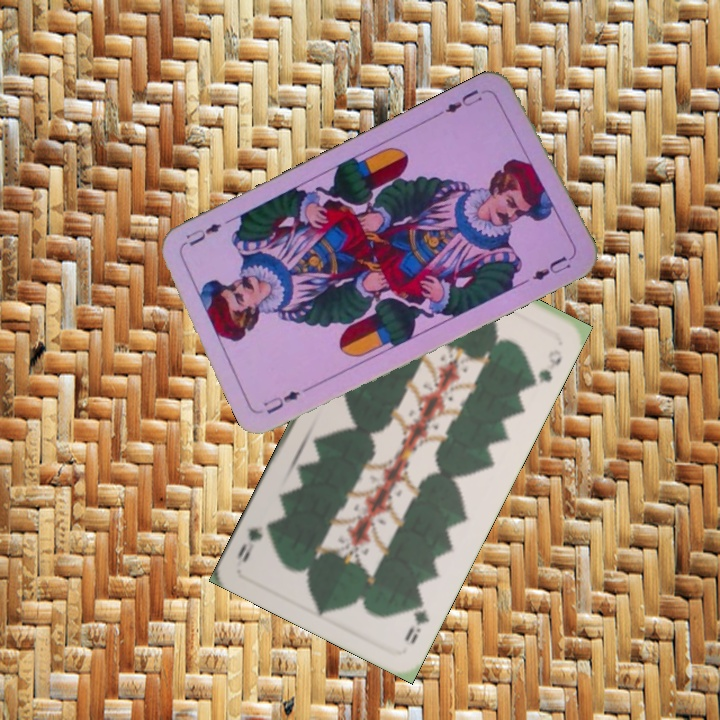EU: (435, 85, 491, 118), (259, 386, 303, 417)
G9: (400, 593, 433, 648)
